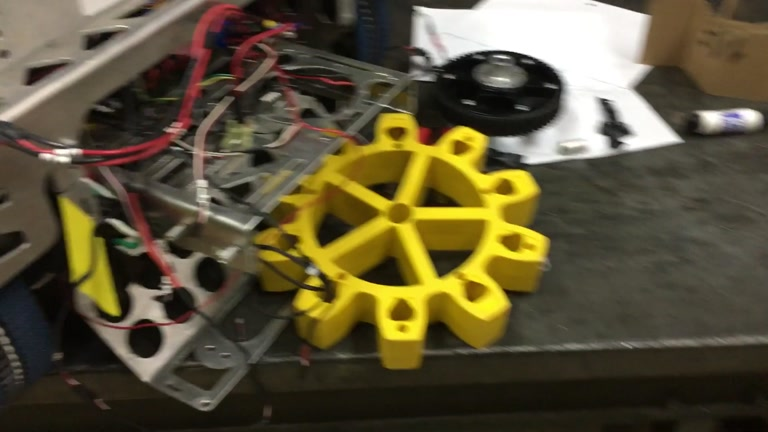gear: (255, 109, 550, 369)
